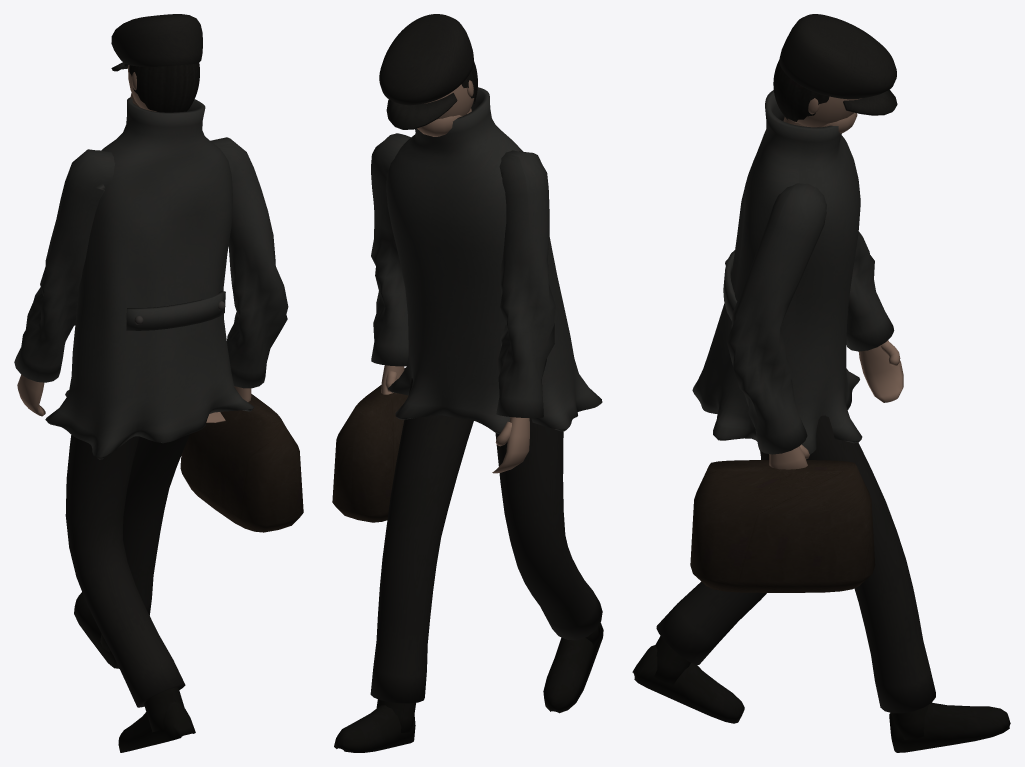
File: walker-man-bag.glb
3 renders of one model, left to right at view 1: azimuth 30°, elevation 25°; view 2: azimuth 150°, elevation 25°; view 3: azimuth 270°, elevation 25°, orthographic. The views are drawn at different scales.
Visible parts, largest first — view 1: walker-man-bag-body; view 2: walker-man-bag-body; view 3: walker-man-bag-body.
Boxes of the visible parts, <box> form: walker-man-bag-body: <box>14,14,303,752</box>; walker-man-bag-body: <box>332,14,603,752</box>; walker-man-bag-body: <box>632,14,1010,752</box>.
Bounding box in the file's own units: 0.5822 × 1.78 × 0.8242.
8 materials, 6 textured.
